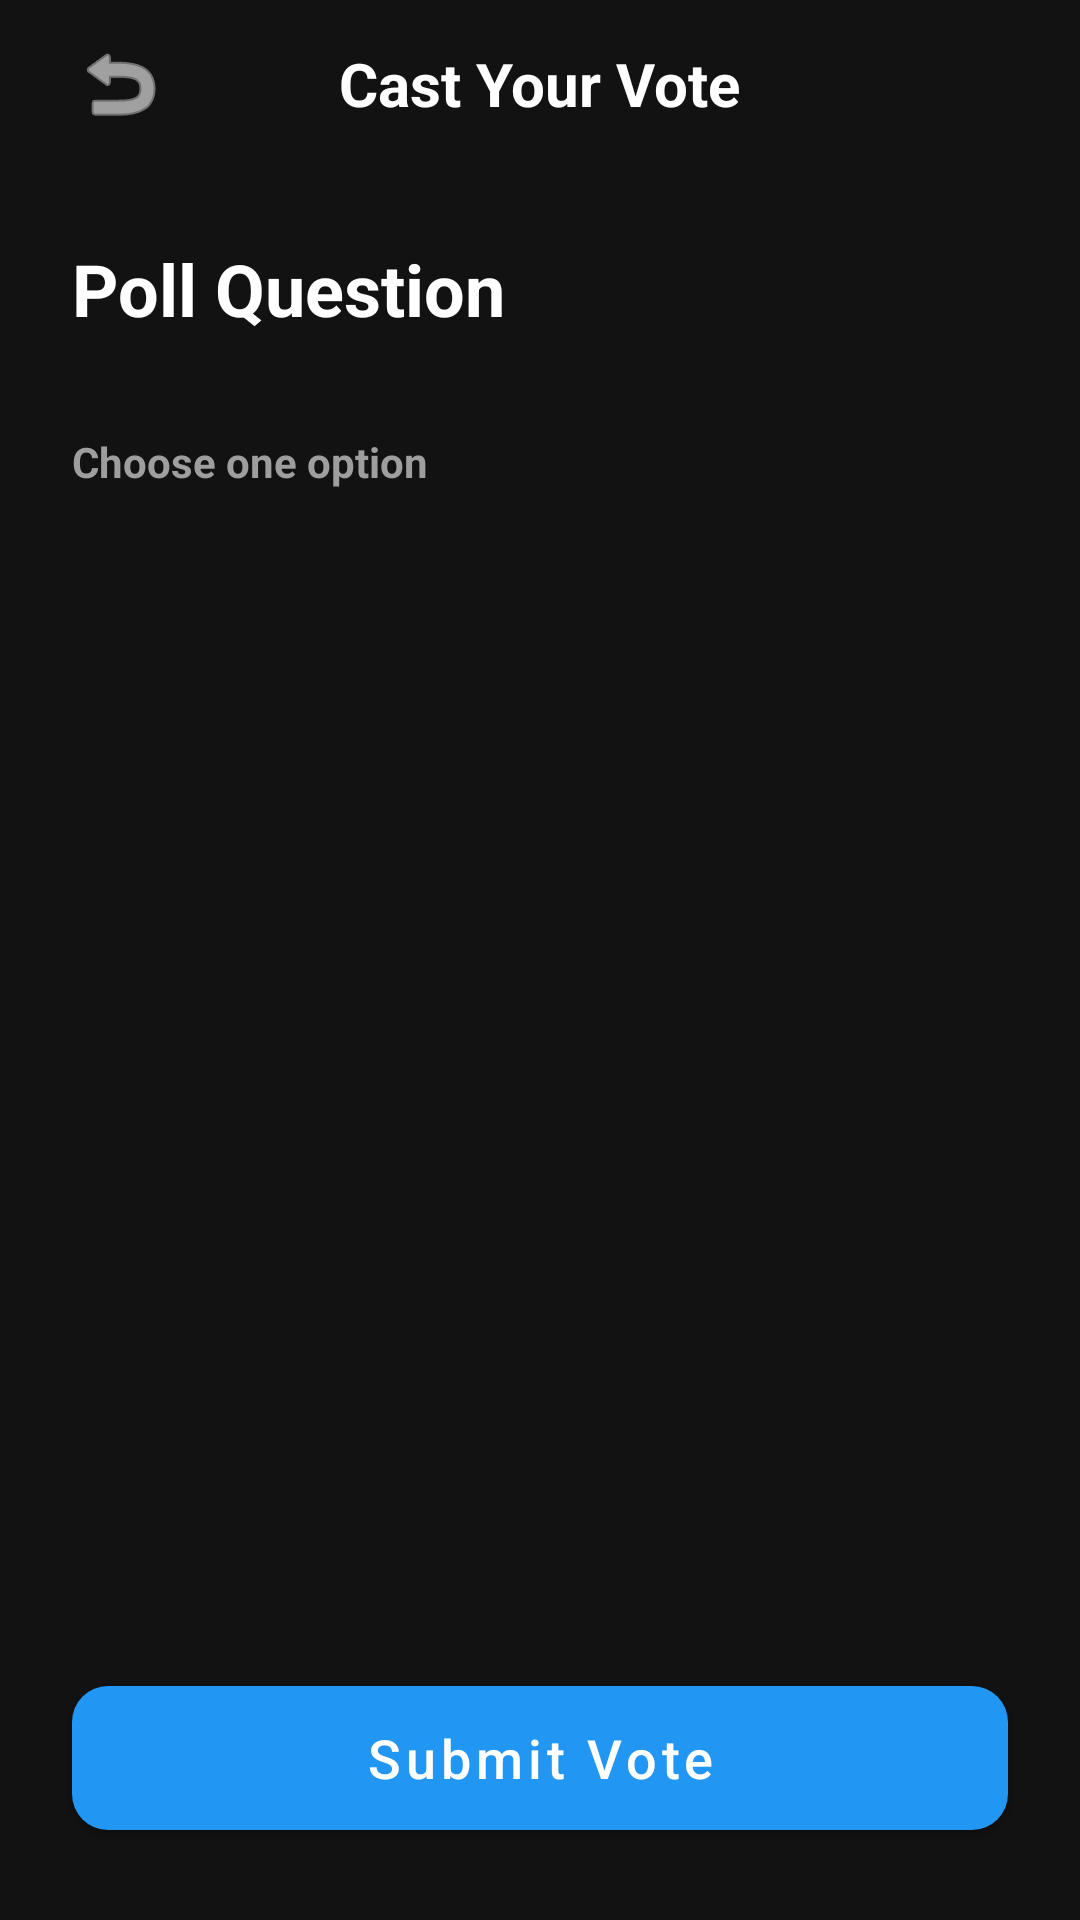

Icon bounding boxes for this 1080w x 1920h phone screenshot, format (x1, y1, x2, y2):
revert: (87, 53, 156, 116)
